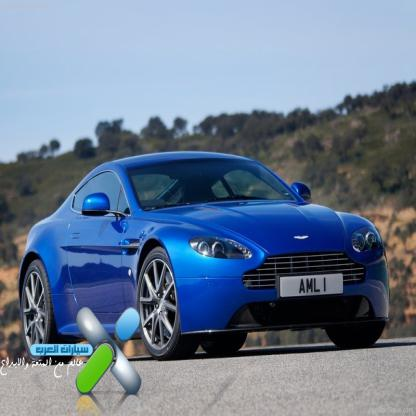Vehicle: (16, 150, 394, 362)
